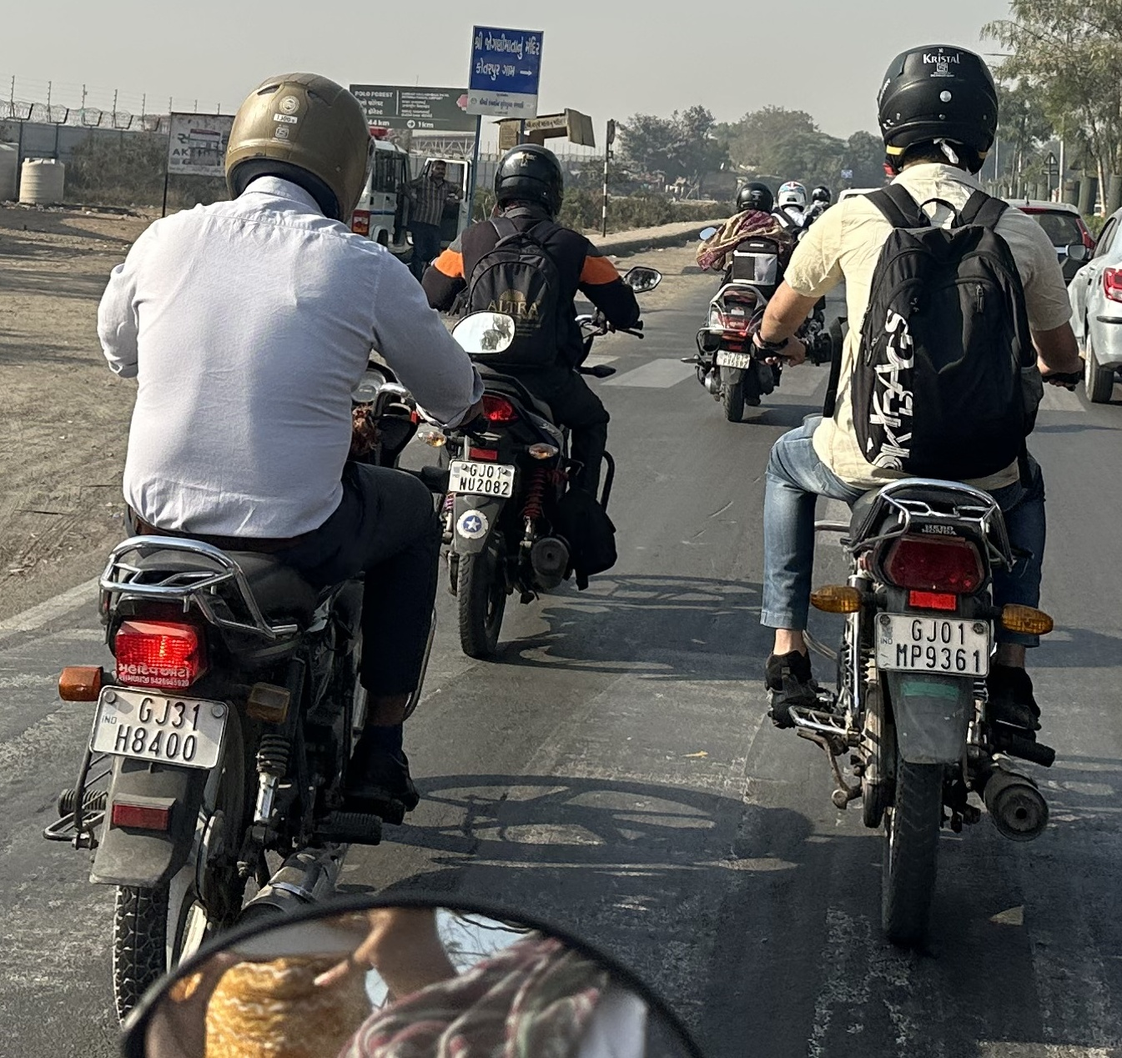BikeWithRider: (33, 60, 495, 1050), (745, 33, 1092, 960), (398, 134, 664, 670), (682, 172, 808, 428)
Helmet: (209, 60, 385, 231), (864, 33, 1014, 186), (482, 136, 574, 230), (737, 177, 777, 218)
